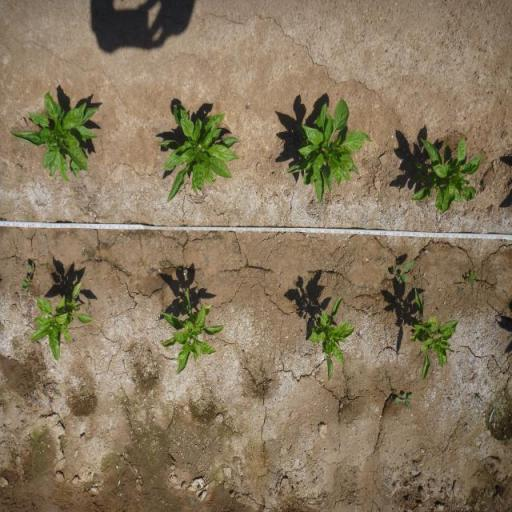plant: (282, 94, 376, 207), (4, 86, 106, 186), (154, 99, 240, 209), (404, 130, 484, 214), (158, 285, 226, 374), (31, 276, 98, 364), (308, 288, 359, 386), (408, 286, 460, 380)
weed: (390, 257, 418, 284), (394, 391, 415, 410), (462, 267, 480, 289), (20, 274, 32, 292), (24, 262, 34, 272), (245, 104, 250, 110), (271, 171, 277, 176)
